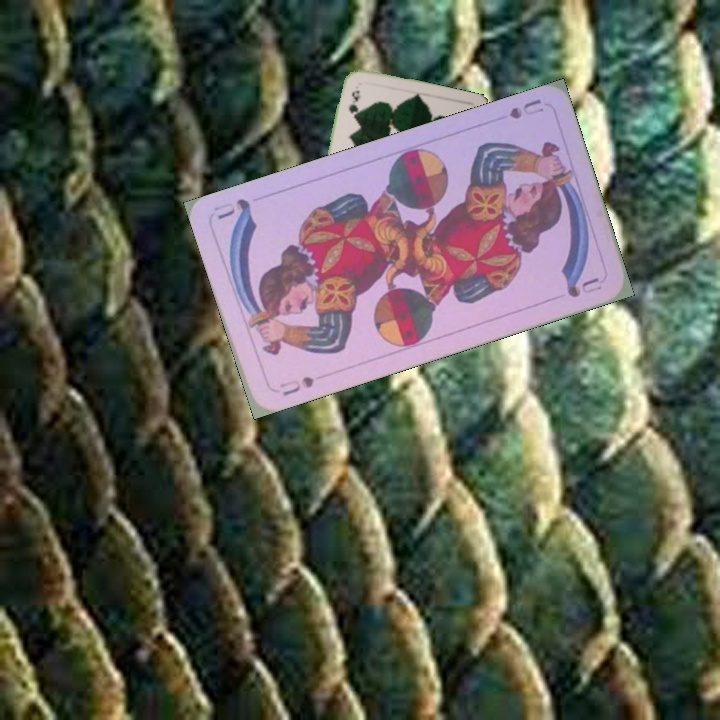G9: (345, 86, 363, 121)
SU: (505, 94, 546, 122), (275, 372, 317, 399)
